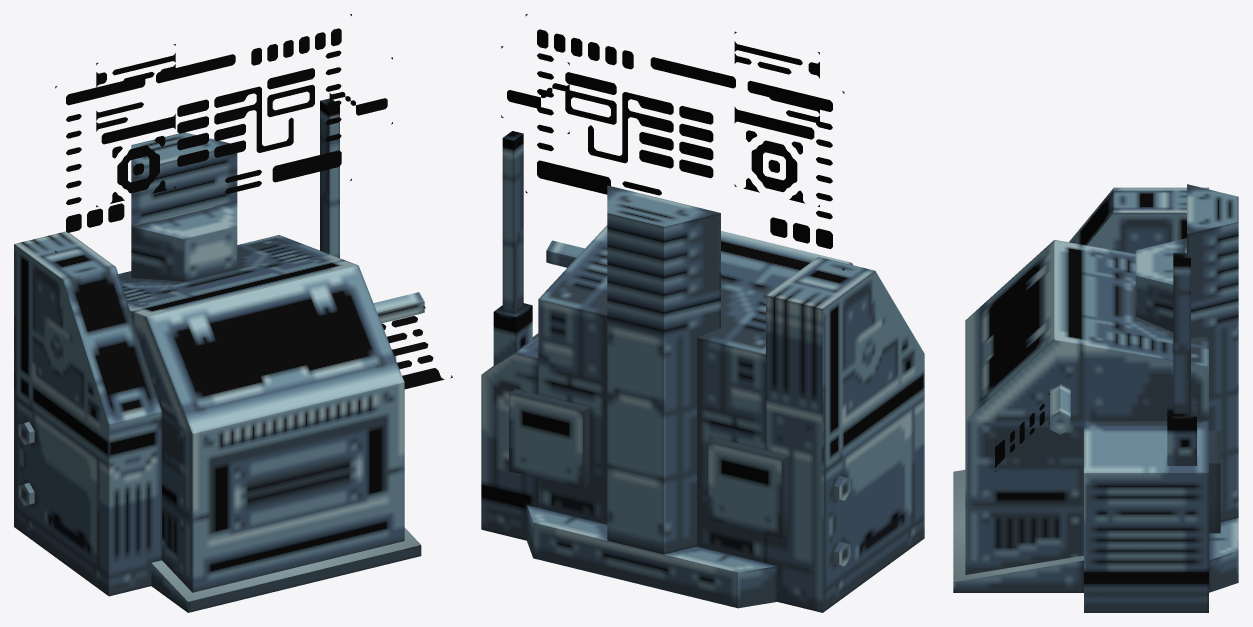
File: CommandConsole_Large.fbx
3 renders of one model, left to right at view 1: azimuth 30°, elevation 25°; view 2: azimuth 150°, elevation 25°; view 3: azimuth 270°, elevation 25°, orthographic. The views are drawn at different scales.
Parts seen in each view (by area): view 1: Console, Hologram3, Hologram2, Hologram4; view 2: Console, Hologram3, Hologram2; view 3: Console, Hologram4.
Part boxes in pixels (bbox=[...]): Console: bbox=[14, 98, 424, 612]; Hologram3: bbox=[55, 14, 351, 252]; Hologram2: bbox=[96, 44, 175, 207]; Hologram4: bbox=[382, 306, 452, 389]; Console: bbox=[481, 131, 924, 612]; Hologram3: bbox=[525, 14, 844, 270]; Hologram2: bbox=[734, 31, 819, 206]; Console: bbox=[953, 184, 1238, 612]; Hologram4: bbox=[995, 393, 1049, 472].
Bounding box in the file's own units: 16.25 × 21.75 × 12.
